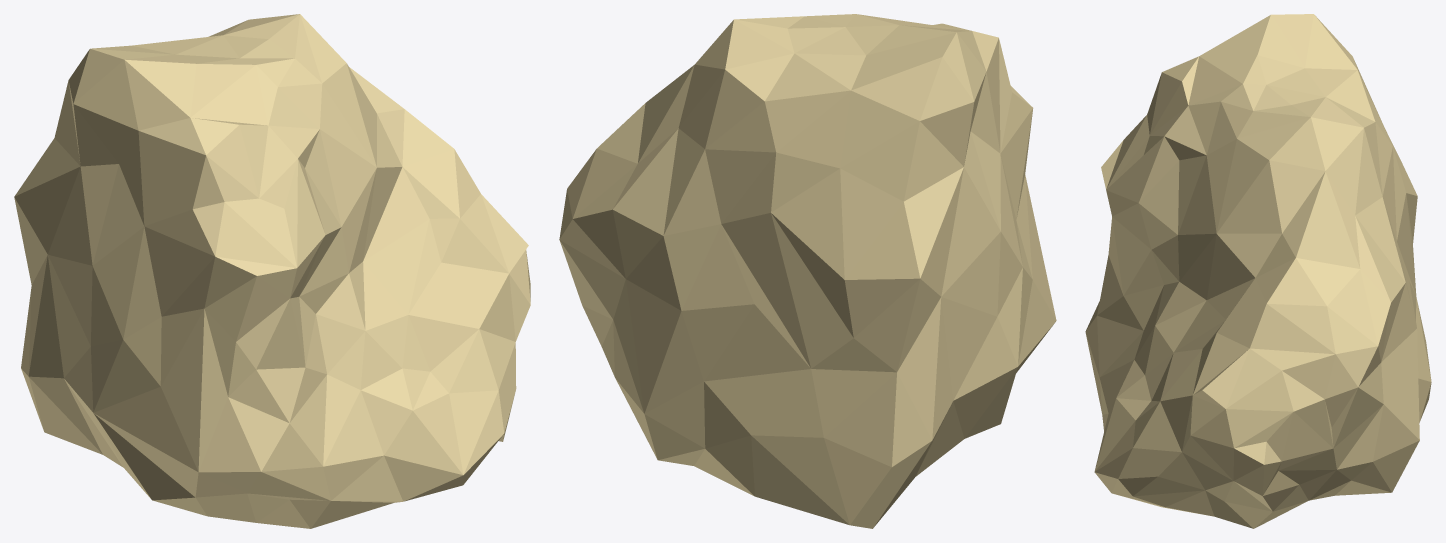
Rendered from Asteroid (87).fbx.
The picture shows the model from 3 angles, left to right: view 1: azimuth 30°, elevation 25°; view 2: azimuth 150°, elevation 25°; view 3: azimuth 270°, elevation 25°; orthographic projection. The views are drawn at different scales.
Parts seen in each view (by area): view 1: Asteroid106; view 2: Asteroid106; view 3: Asteroid106.
Boxes of the visible parts, x1,y1,x2,y2 form: Asteroid106: (14, 14, 530, 528); Asteroid106: (559, 14, 1056, 528); Asteroid106: (1085, 14, 1431, 528).
Size of the model in its own units: 296 by 297 by 229.
